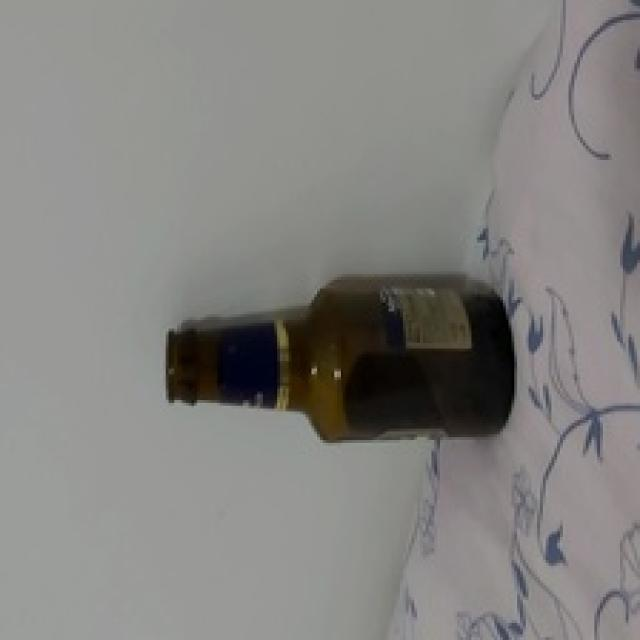Glass: (168, 269, 516, 446)
